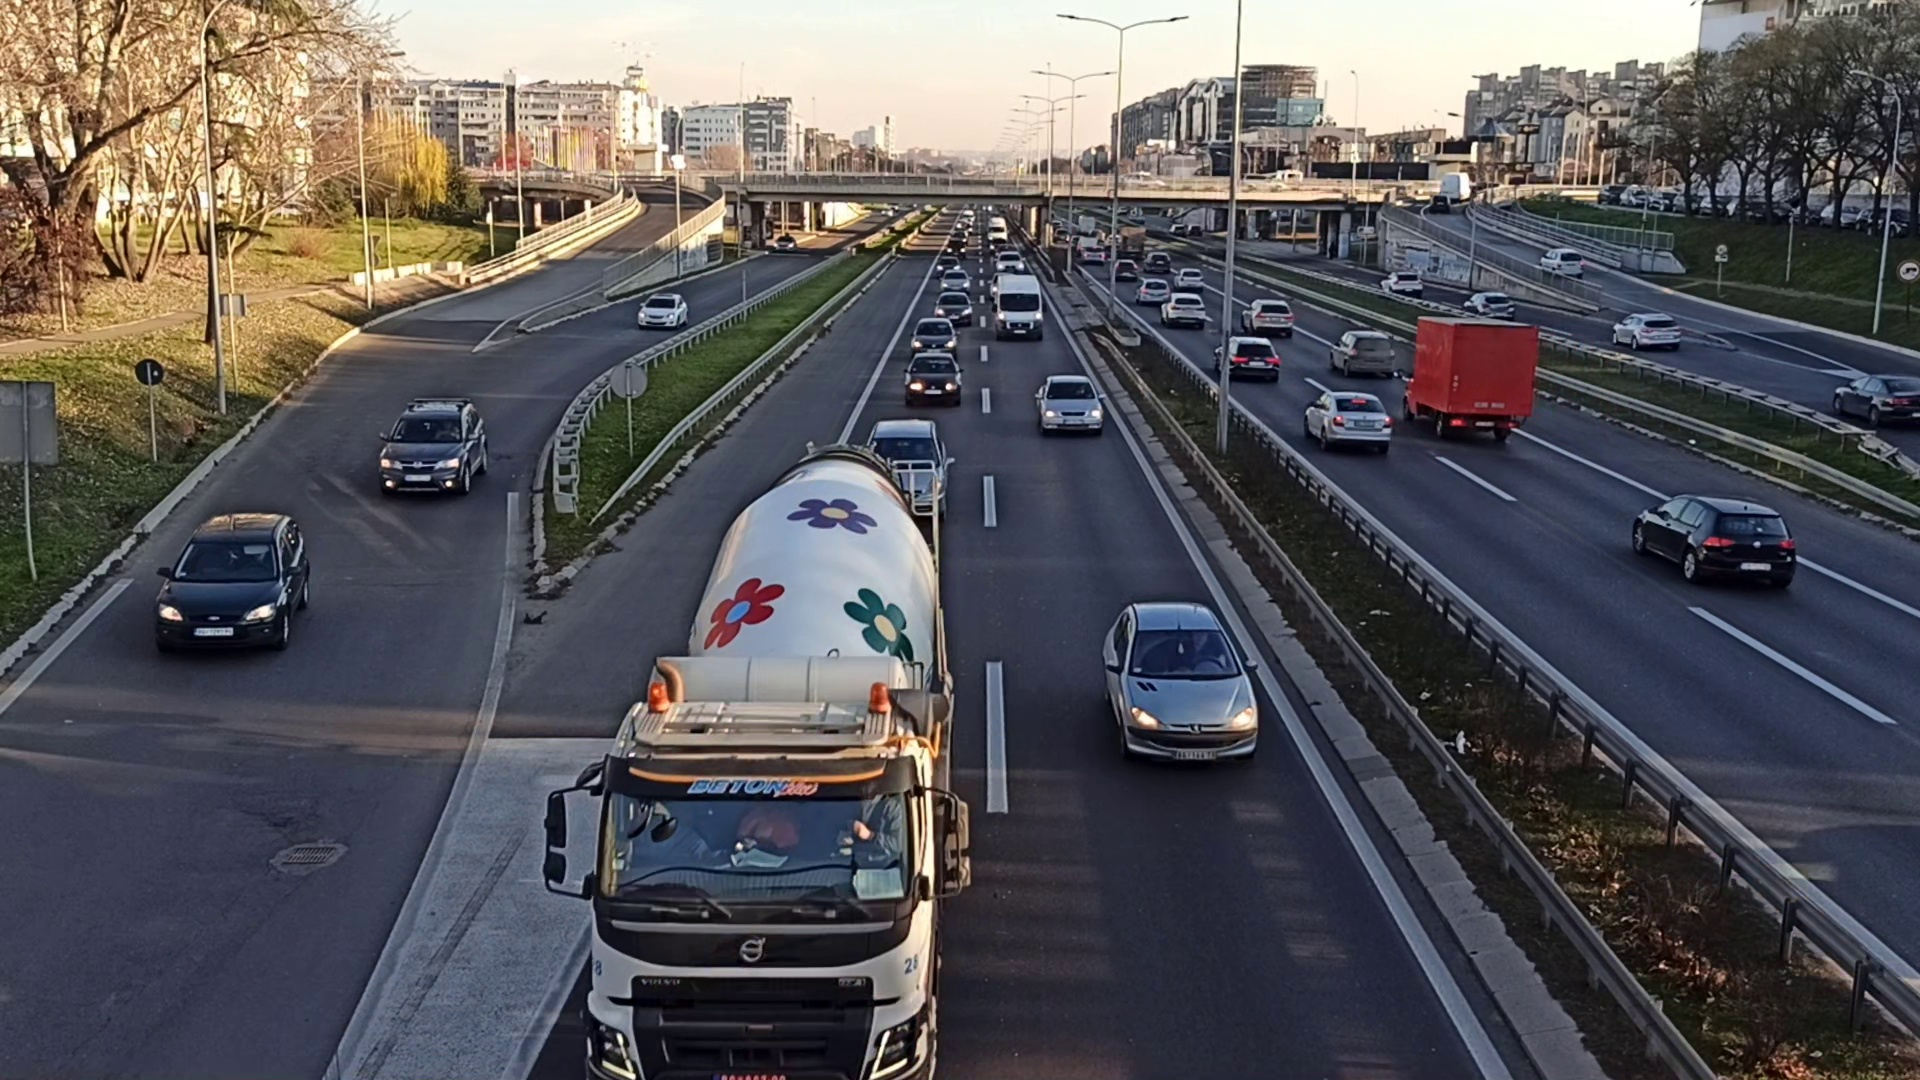car: (1098, 600, 1258, 767), (153, 509, 309, 654), (1631, 489, 1799, 597), (378, 397, 491, 504), (1305, 389, 1393, 459), (1036, 375, 1102, 433), (905, 351, 960, 406), (1212, 336, 1280, 380), (1611, 310, 1680, 352), (637, 290, 686, 331), (1242, 294, 1294, 332), (1536, 245, 1585, 280), (1465, 287, 1514, 319), (1162, 290, 1207, 324), (910, 316, 955, 351), (934, 290, 971, 323), (1379, 270, 1423, 294)
truck: (587, 444, 957, 1080), (1404, 313, 1540, 454)
van: (996, 274, 1040, 338)
